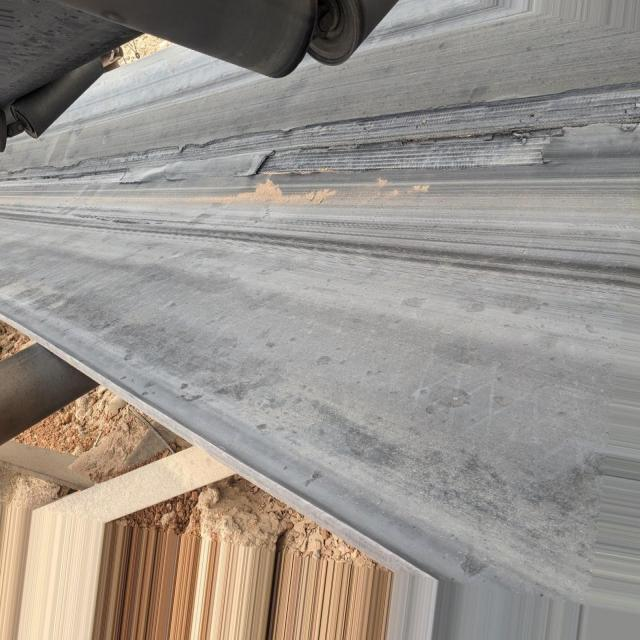Roller: (154, 0, 320, 81), (6, 344, 99, 435), (4, 57, 106, 138), (310, 0, 397, 64)
Tear: (6, 82, 640, 176)
